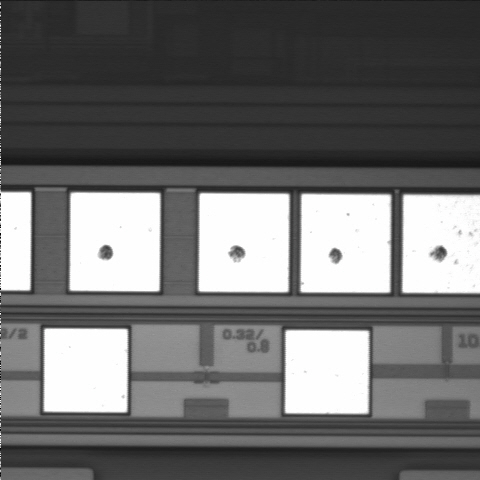pad: (199, 193, 289, 292), (301, 194, 391, 293), (70, 193, 160, 291), (285, 330, 369, 414), (44, 329, 128, 412)
